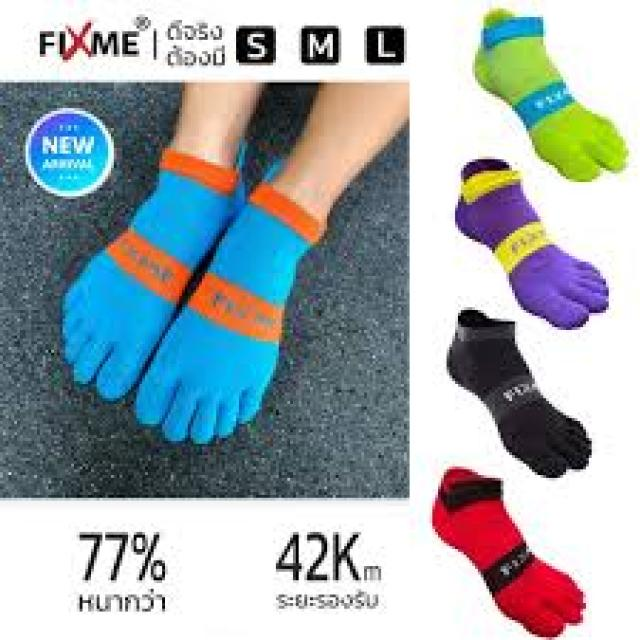sock: (60, 145, 239, 401), (472, 6, 629, 182), (452, 156, 609, 330), (429, 464, 586, 637)
